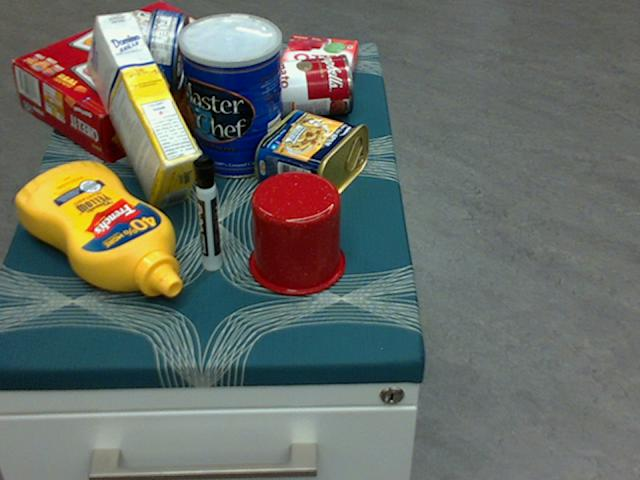cracker_box: (13, 3, 250, 164)
gelatin_box: (278, 37, 357, 85)
large_marker: (192, 155, 221, 269)
master_chef_can: (179, 12, 283, 178)
mug: (246, 169, 345, 294)
mustard_bottle: (15, 162, 181, 296)
potted_meat_can: (254, 107, 369, 206)
sugar_box: (87, 12, 204, 208)
tomato_soup_can: (257, 53, 353, 120)
tuna_fish_can: (142, 6, 188, 92)
